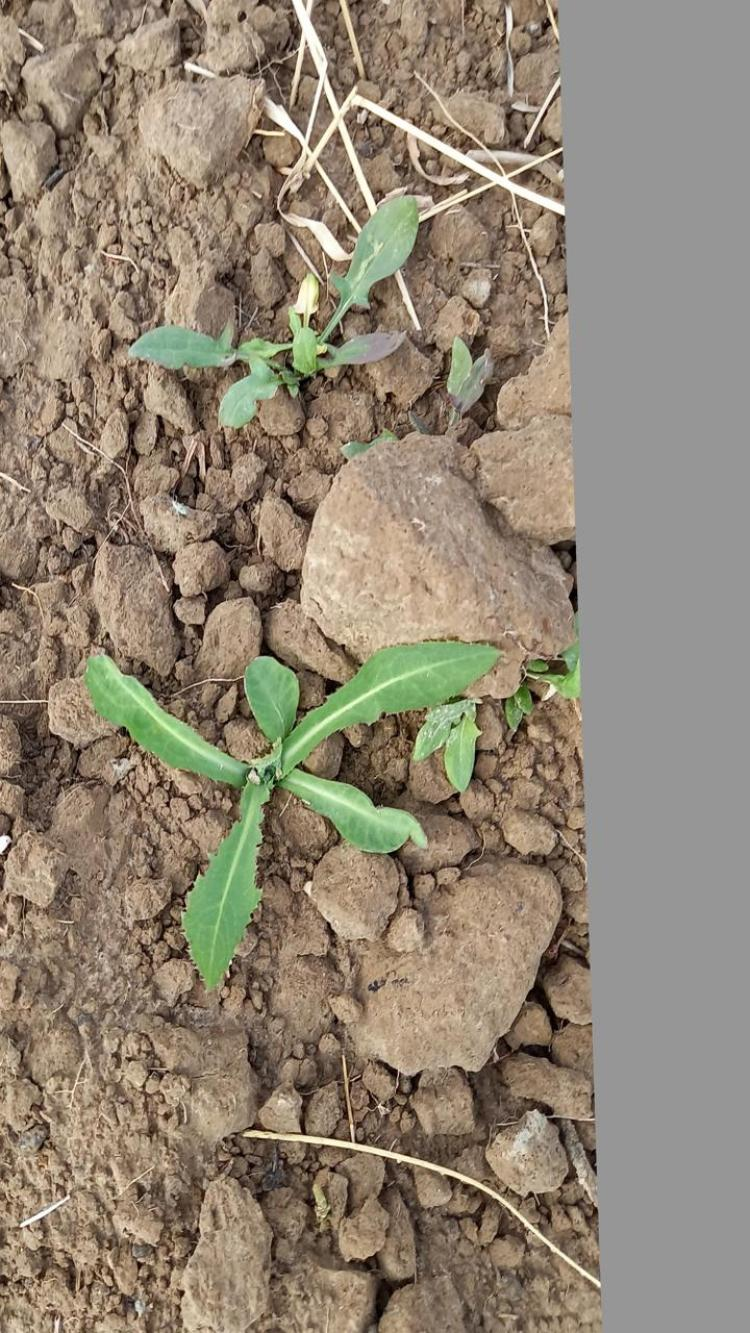osot: (77, 633, 506, 985)
